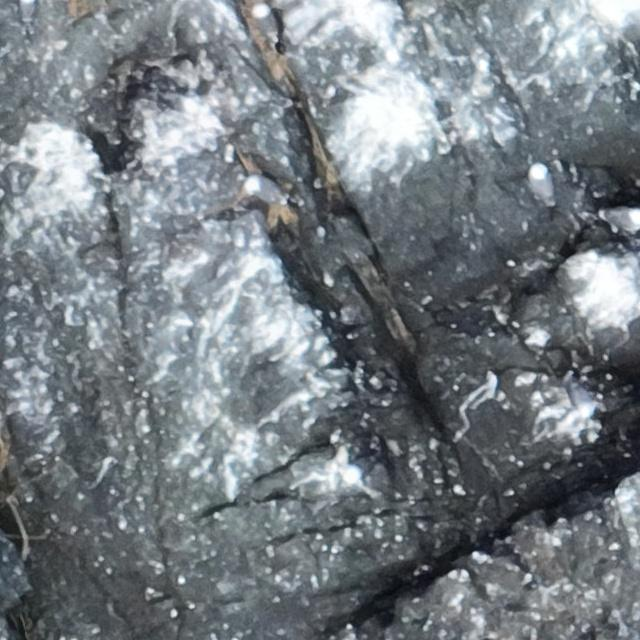umineko: (246, 178, 284, 203), (530, 164, 552, 205), (256, 6, 277, 44), (20, 0, 34, 19)
